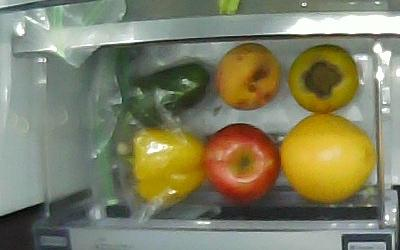apple: (203, 123, 279, 203)
grapefruit: (280, 113, 375, 205)
paprika_vinyl: (124, 129, 204, 209), (123, 62, 208, 130)
peach: (215, 43, 281, 110)
persimmon: (288, 45, 359, 114)
